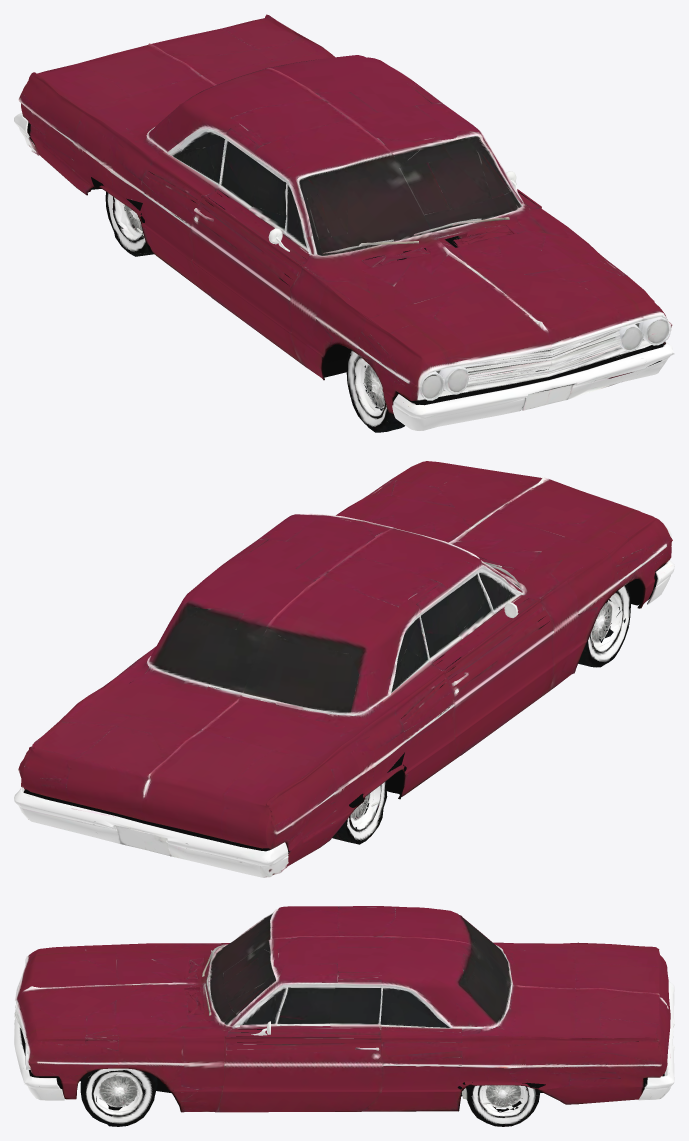
File: lowrider-v3.glb
3 views of the same model, one above another, from view 1: azimuth 30°, elevation 25°; view 2: azimuth 150°, elevation 25°; view 3: azimuth 270°, elevation 25° (orthographic). The views are drawn at different scales.
Visible parts, largest first — view 1: body, wheel_fl_mesh, wheel_rl_mesh; view 2: body, wheel_fl_mesh, wheel_rl_mesh; view 3: body, wheel_fr_mesh, wheel_rr_mesh.
Part boxes in pixels (x1,y1,x2,y2): body: [14, 14, 674, 430]; wheel_fl_mesh: [346, 349, 404, 432]; wheel_rl_mesh: [105, 192, 153, 256]; body: [14, 461, 674, 877]; wheel_fl_mesh: [578, 584, 630, 667]; wheel_rl_mesh: [332, 780, 387, 844]; body: [14, 906, 674, 1112]; wheel_fr_mesh: [80, 1068, 157, 1126]; wheel_rr_mesh: [462, 1085, 540, 1126].
Bounding box in the file's own units: 0.3549 × 0.2309 × 0.9507.
Materials: 1 (1 with a texture image).
